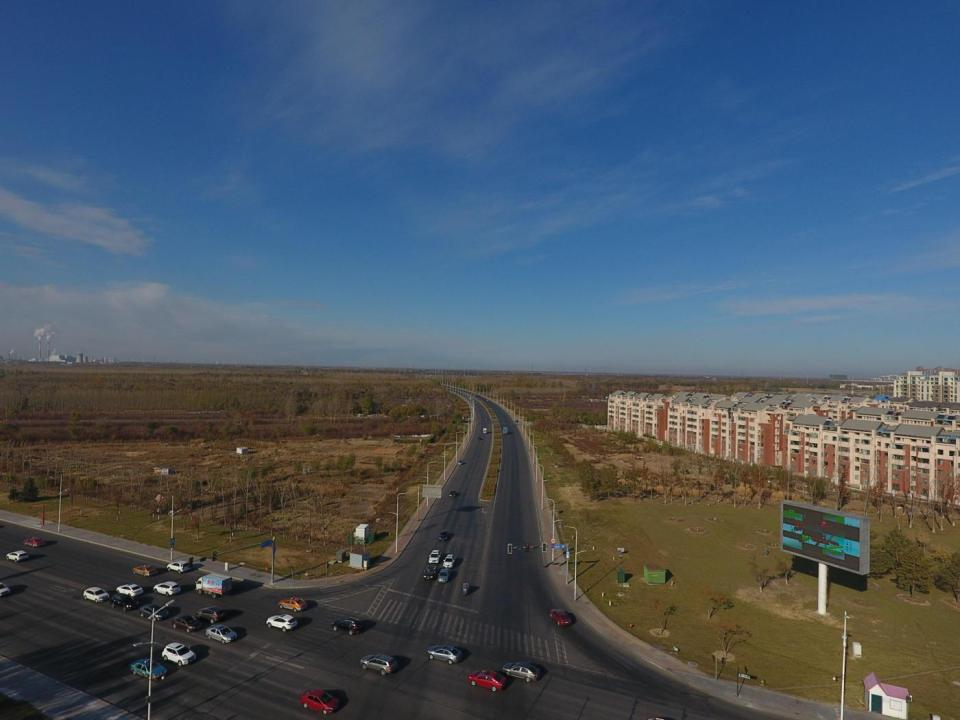car: (300, 689, 339, 715), (468, 669, 506, 691), (162, 642, 196, 666), (130, 658, 167, 680), (360, 654, 398, 675), (502, 662, 540, 682), (427, 646, 462, 664), (205, 625, 237, 644), (332, 617, 364, 635), (266, 614, 298, 632), (172, 614, 202, 633), (109, 593, 139, 612), (196, 606, 225, 624), (278, 596, 308, 612), (140, 604, 170, 620), (83, 586, 110, 603), (153, 580, 181, 596), (549, 609, 572, 627), (116, 583, 143, 598), (166, 561, 191, 573), (132, 564, 157, 576), (6, 550, 29, 562), (23, 536, 46, 547), (423, 564, 438, 580), (428, 549, 441, 564), (437, 568, 450, 583), (444, 554, 454, 568), (439, 530, 448, 540), (449, 490, 457, 498), (457, 459, 463, 465), (516, 420, 519, 423), (477, 437, 481, 439), (486, 399, 489, 401), (485, 418, 487, 420)
truck: (195, 572, 232, 598), (502, 426, 507, 434), (483, 428, 487, 433)
